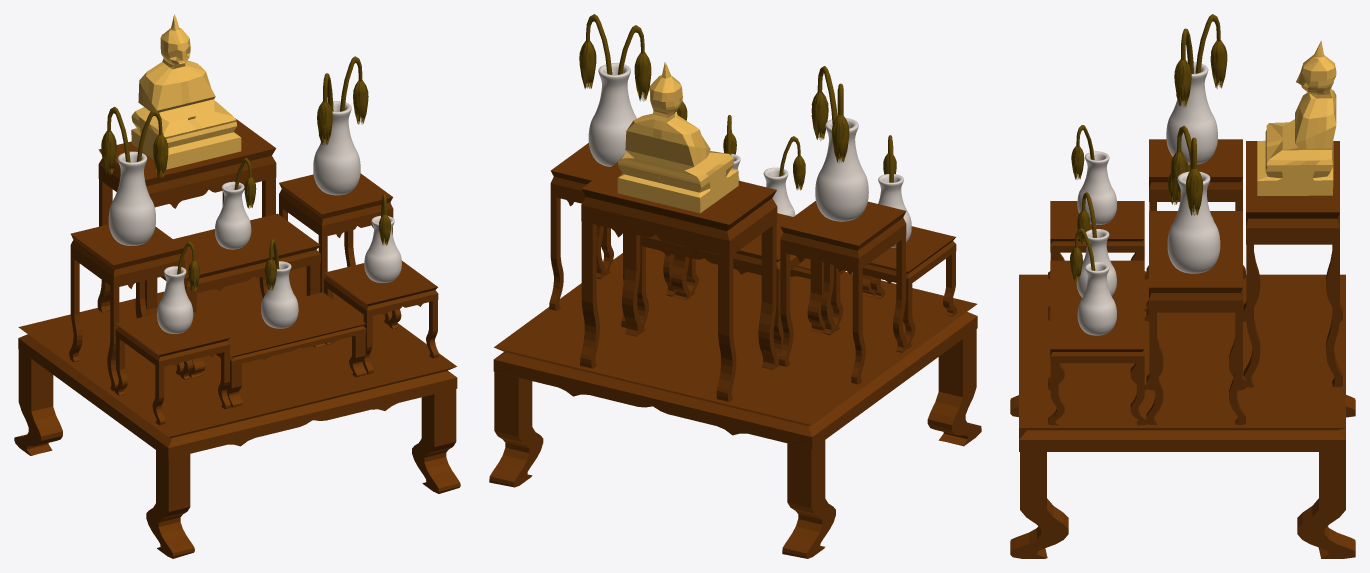
Rendered from statue.fbx.
The picture shows the model from 3 angles, left to right: view 1: azimuth 30°, elevation 25°; view 2: azimuth 150°, elevation 25°; view 3: azimuth 270°, elevation 25°; orthographic projection. The views are drawn at different scales.
Visible parts, largest first — view 1: Cube.004, Plane, Cylinder.003, Cylinder.001, Cylinder.002, Cylinder.006, Cylinder.005, Cylinder.004, Cylinder.010, Cylinder.007, Cylinder.012; view 2: Cube.004, Plane, Cylinder.003, Cylinder.001, Cylinder.005, Cylinder.006, Cylinder.007, Cylinder.010, Cylinder.012; view 3: Cube.004, Plane, Cylinder.003, Cylinder.001, Cylinder.004, Cylinder.006, Cylinder.005, Cylinder.012, Cylinder.007, Cylinder.010, Cylinder.008.
Part boxes in pixels (x1,y1,x2,y2): Cube.004: [14, 118, 460, 558]; Plane: [131, 14, 241, 169]; Cylinder.003: [313, 56, 368, 195]; Cylinder.001: [108, 151, 155, 245]; Cylinder.002: [215, 158, 256, 249]; Cylinder.006: [157, 241, 199, 333]; Cylinder.005: [261, 239, 298, 328]; Cylinder.004: [364, 194, 401, 282]; Cylinder.010: [317, 101, 332, 145]; Cylinder.007: [101, 130, 116, 175]; Cylinder.012: [153, 134, 168, 178]; Cube.004: [489, 143, 981, 558]; Plane: [617, 62, 738, 213]; Cylinder.003: [579, 14, 636, 166]; Cylinder.001: [815, 118, 868, 221]; Cylinder.005: [763, 136, 805, 216]; Cylinder.006: [878, 135, 911, 247]; Cylinder.007: [832, 115, 849, 162]; Cylinder.010: [634, 52, 651, 101]; Cylinder.012: [811, 91, 828, 140]; Cube.004: [1010, 139, 1355, 558]; Plane: [1257, 40, 1336, 195]; Cylinder.003: [1167, 137, 1220, 273]; Cylinder.001: [1166, 62, 1217, 164]; Cylinder.004: [1070, 228, 1116, 335]; Cylinder.006: [1071, 125, 1116, 224]; Cylinder.005: [1076, 192, 1116, 297]; Cylinder.012: [1174, 59, 1191, 107]; Cylinder.007: [1210, 40, 1227, 88]; Cylinder.010: [1171, 151, 1187, 199]; Cylinder.008: [1195, 14, 1220, 73].
Size of the model in its own units: 569 by 765 by 541.
